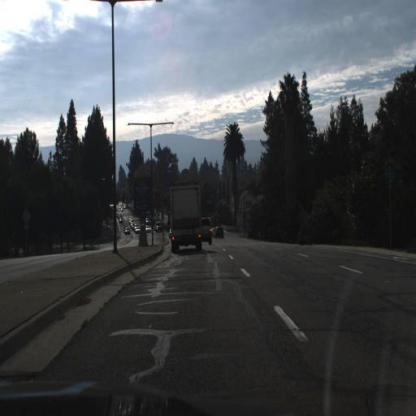car: (201, 217, 215, 247)
truck: (170, 183, 204, 255)
